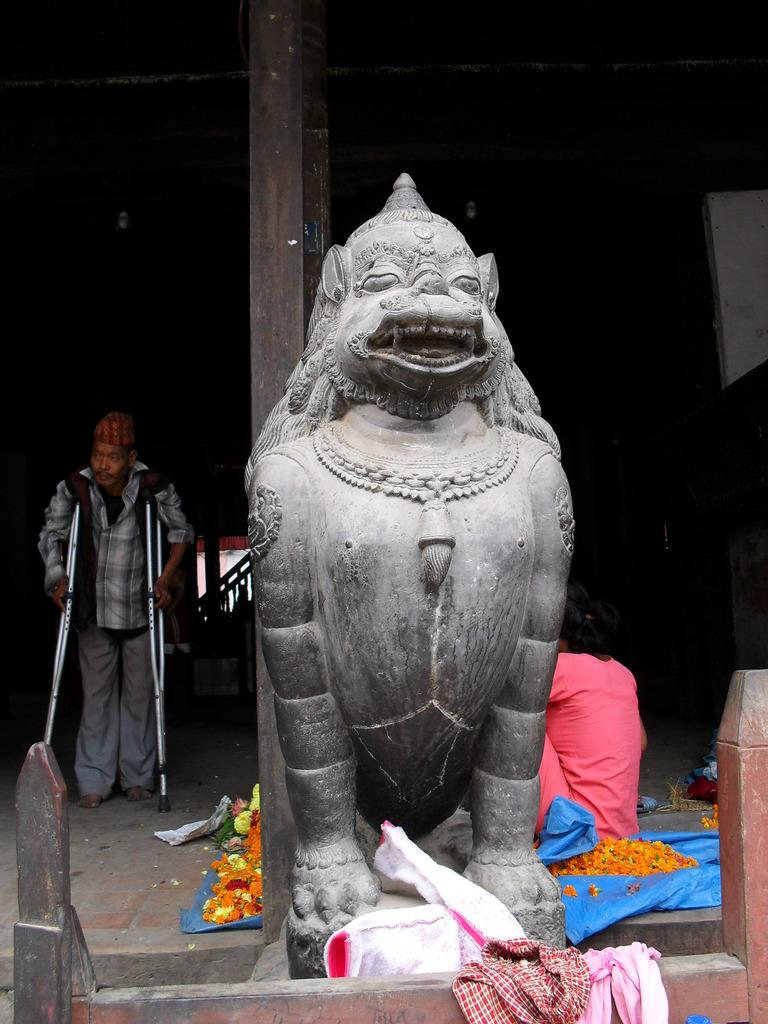crutches: (28, 398, 209, 816)
